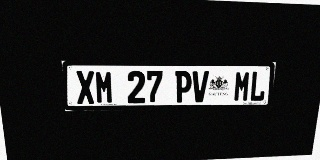2: (127, 71, 145, 103)
7: (146, 71, 163, 103)
L: (249, 71, 267, 101)
M: (95, 71, 114, 104), (233, 71, 251, 102)
P: (174, 71, 192, 103)
V: (191, 71, 209, 102)
X: (75, 71, 95, 104)
